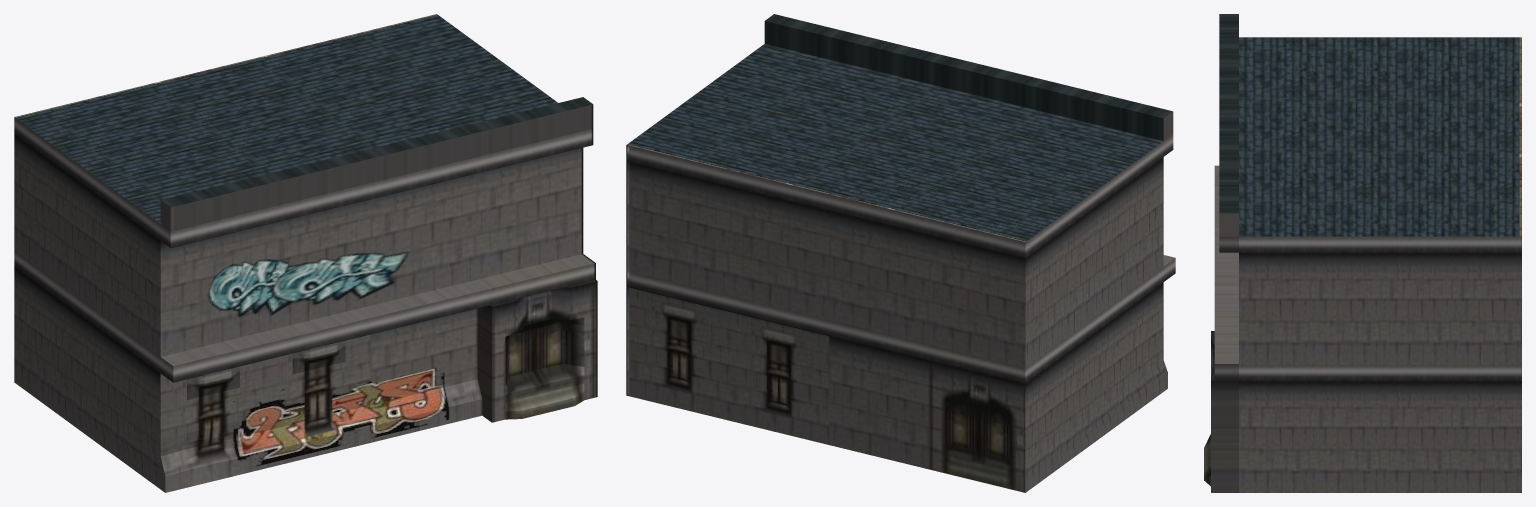
Rendered from building06.fbx.
The picture shows the model from 3 angles, left to right: view 1: azimuth 30°, elevation 25°; view 2: azimuth 150°, elevation 25°; view 3: azimuth 270°, elevation 25°; orthographic projection. The views are drawn at different scales.
Visible parts, largest first — view 1: Cube; view 2: Cube; view 3: Cube.
Boxes of the visible parts, box(x1,y1,x2,y2) form: Cube: box(14, 14, 597, 492); Cube: box(626, 14, 1175, 492); Cube: box(1204, 14, 1521, 492).
Bounding box in the file's own units: 2000 × 1309 × 1347.
1 material, 1 textured.
